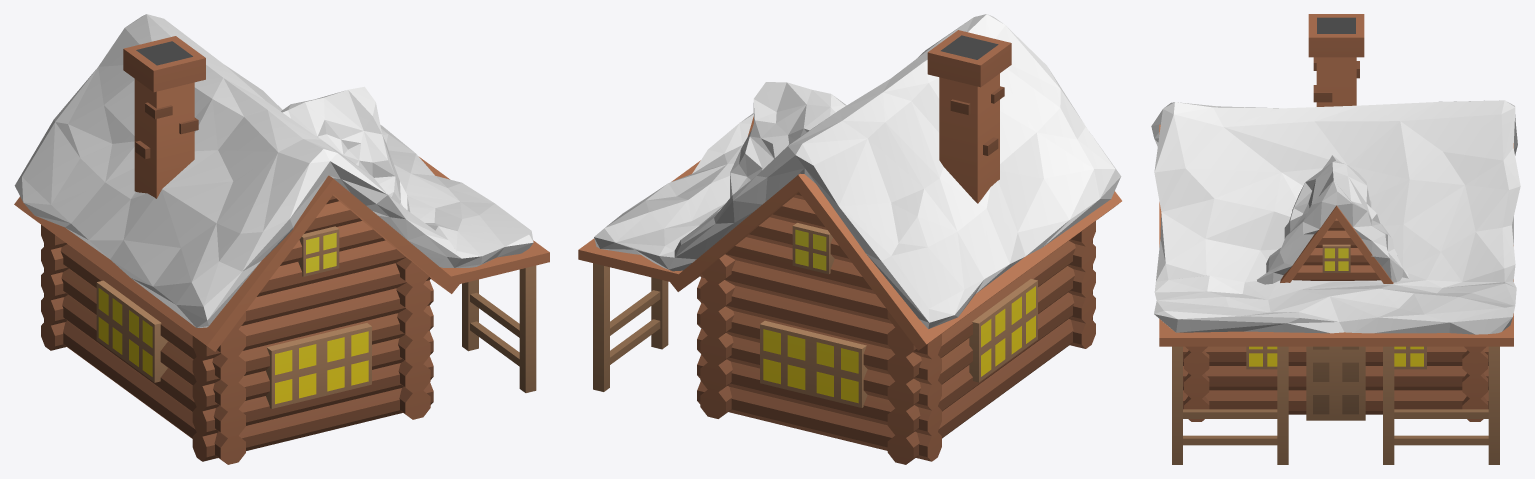
Rendered from wooden winter house 2.fbx.
3 views of the same model, side by side, from view 1: azimuth 30°, elevation 25°; view 2: azimuth 150°, elevation 25°; view 3: azimuth 270°, elevation 25° (orthographic). The views are drawn at different scales.
Visible parts, largest first — view 1: wooden winter house 2; view 2: wooden winter house 2; view 3: wooden winter house 2.
Part boxes in pixels (x1=…): wooden winter house 2: x1=14, y1=14, x2=549, y2=464; wooden winter house 2: x1=578, y1=14, x2=1121, y2=464; wooden winter house 2: x1=1151, y1=14, x2=1520, y2=464.
Size of the model in its own units: 752 by 694 by 743.
